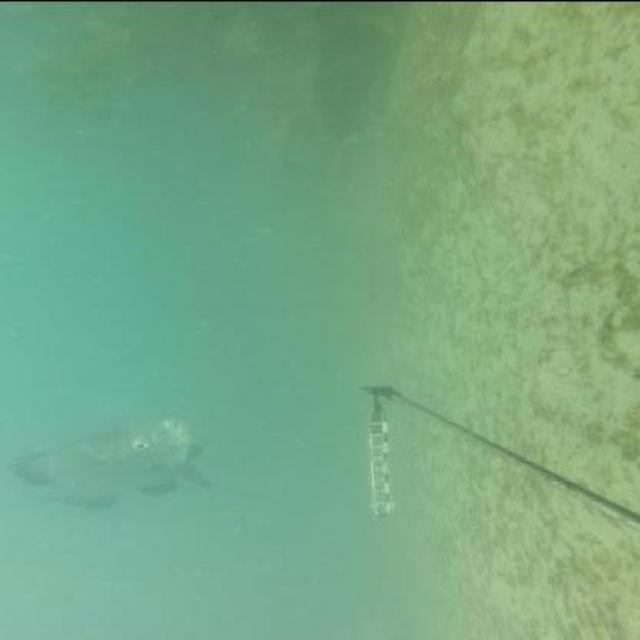acanthopagrus_palmaris: (12, 413, 216, 509)
